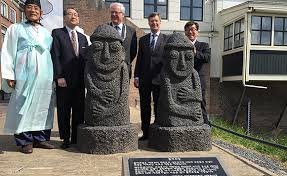Stone Statue: (70, 18, 143, 158), (146, 24, 217, 155)
